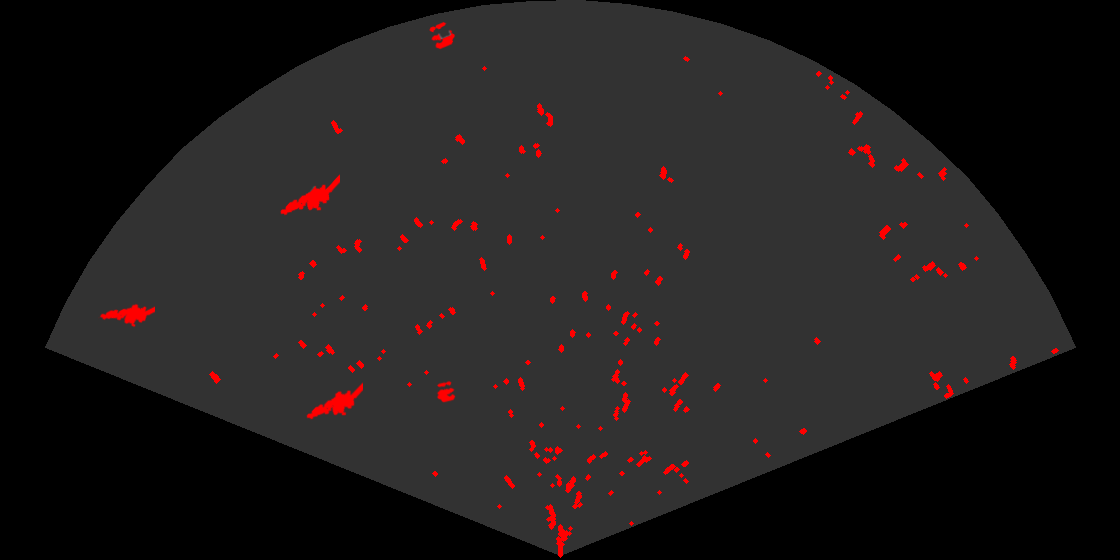ball: (428, 20, 457, 51), (435, 379, 457, 404)
frogman: (279, 173, 340, 217), (305, 381, 363, 421), (98, 302, 155, 329)
